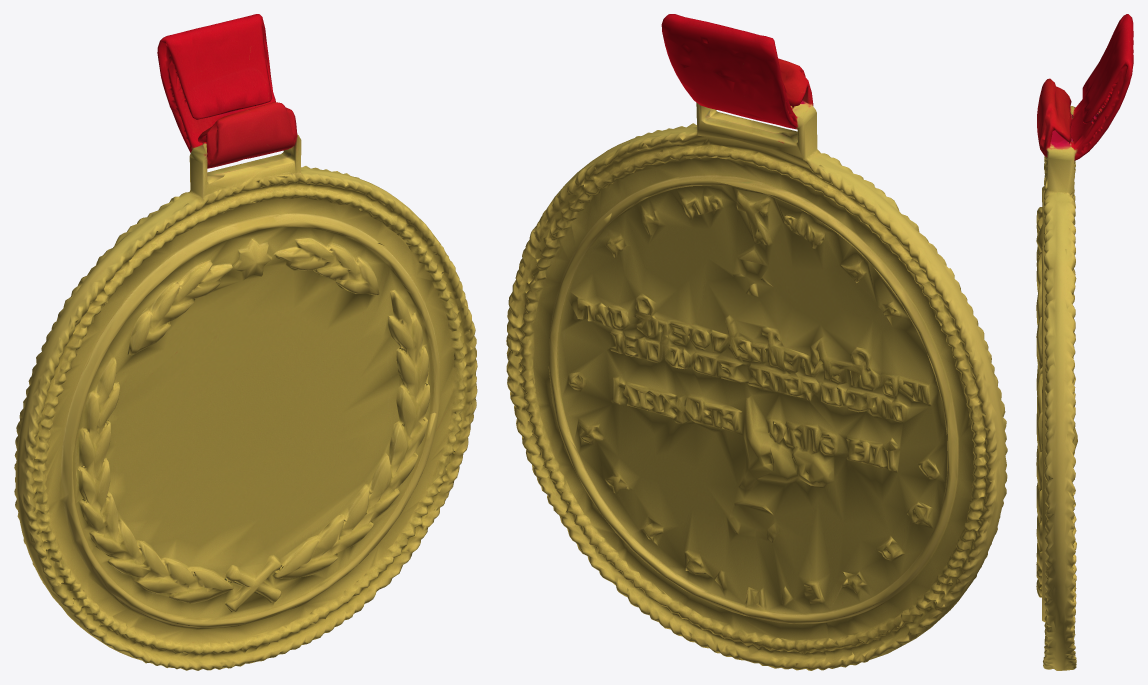
The model's file is ee_pulitzer.glb.
3 renders of one model, left to right at view 1: azimuth 30°, elevation 25°; view 2: azimuth 150°, elevation 25°; view 3: azimuth 270°, elevation 25°, orthographic. The views are drawn at different scales.
Bounding box in the file's own units: 1.49 × 1.91 × 0.2762.
1 material, 1 textured.
